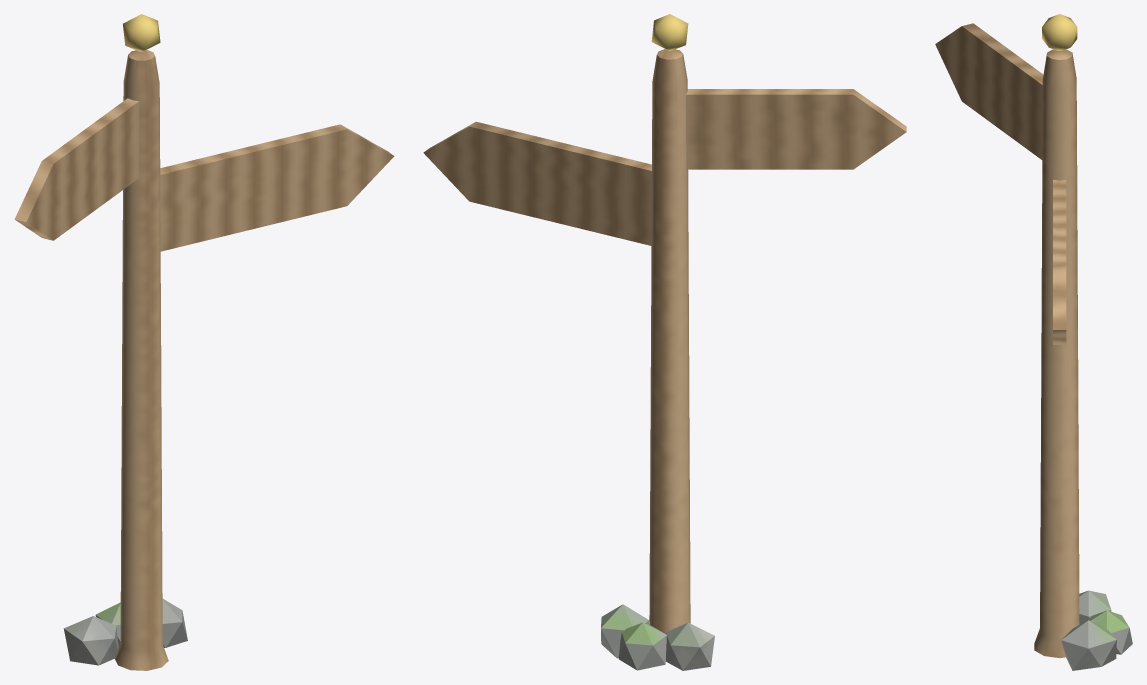
The model's file is signpost.gltf.
The picture shows the model from 3 angles, left to right: view 1: azimuth 30°, elevation 25°; view 2: azimuth 150°, elevation 25°; view 3: azimuth 270°, elevation 25°; orthographic projection. The views are drawn at different scales.
Parts seen in each view (by area): view 1: signpost; view 2: signpost; view 3: signpost.
Part boxes in pixels (x1,y1,x2,y2): signpost: (14, 14, 394, 670); signpost: (423, 14, 906, 670); signpost: (935, 14, 1132, 670).
Size of the model in its own units: 1.65 by 2.35 by 0.6656.
Materials: 1 (1 with a texture image).
